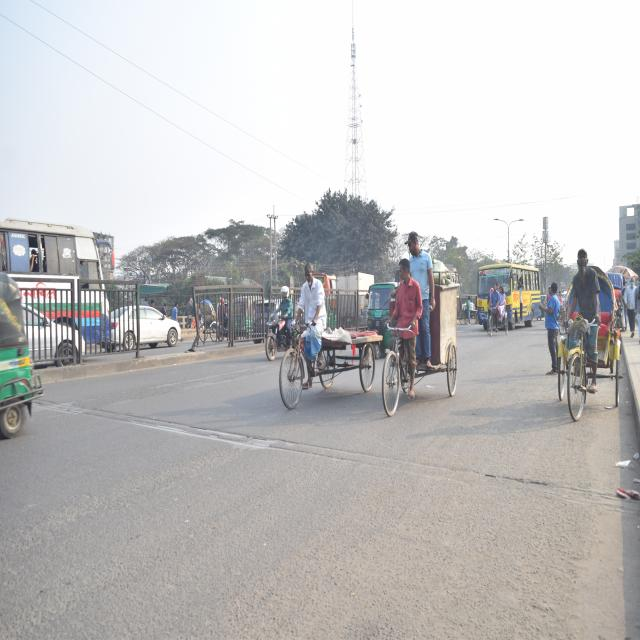bus: (0, 213, 116, 374), (476, 262, 541, 336)
car: (115, 289, 191, 360)
motorbike: (260, 296, 293, 364)
